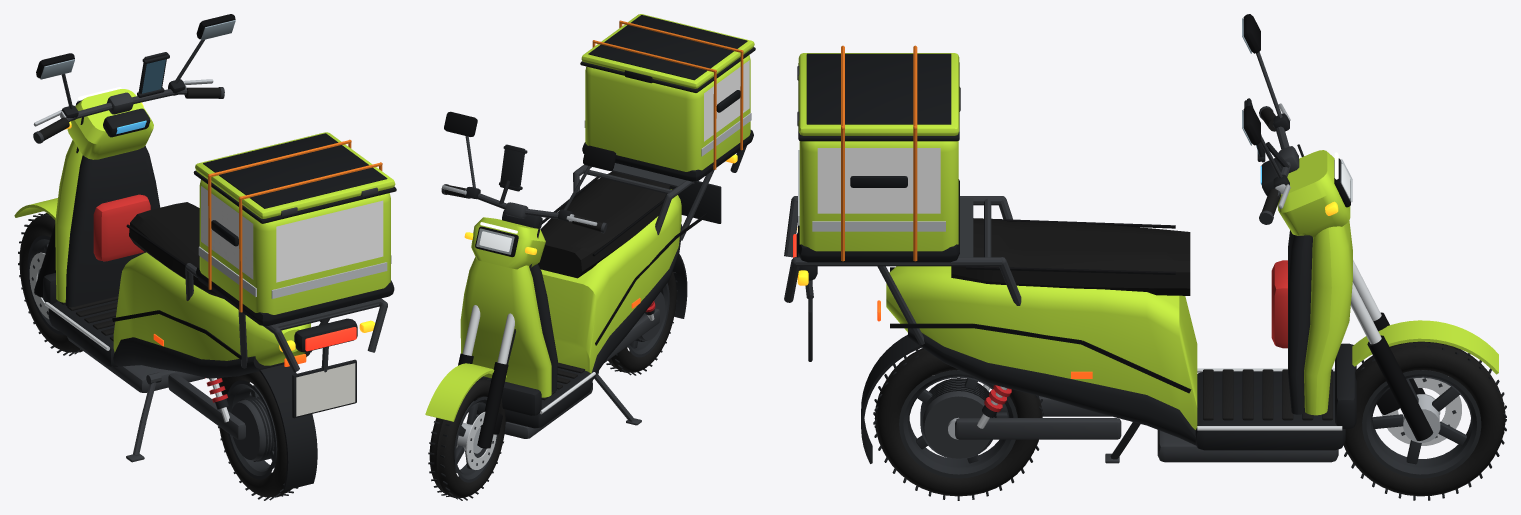
File: gz_ebike.glb
3 renders of one model, left to right at view 1: azimuth 30°, elevation 25°; view 2: azimuth 150°, elevation 25°; view 3: azimuth 270°, elevation 25°, orthographic. The views are drawn at different scales.
Visible parts, largest first — view 1: kit_ebike_body, kit_ebike_steer, kit_ebike_lid, ebike_logo, kit_ebike_wheel_r, kit_ebike_wheel_f, ebike_plate, kit_ebike_stand, ebike_screen; view 2: kit_ebike_body, kit_ebike_steer, kit_ebike_lid, kit_ebike_wheel_f, kit_ebike_wheel_r, ebike_logo, kit_ebike_stand; view 3: kit_ebike_body, kit_ebike_wheel_f, kit_ebike_steer, kit_ebike_wheel_r, kit_ebike_lid, ebike_logo.
Part boxes in pixels (x1,y1,x2,y2): kit_ebike_body: [43, 139, 396, 490]; kit_ebike_steer: [14, 14, 235, 297]; kit_ebike_lid: [195, 132, 395, 218]; ebike_logo: [201, 186, 383, 282]; kit_ebike_wheel_r: [218, 371, 298, 500]; kit_ebike_wheel_f: [18, 213, 82, 355]; ebike_plate: [296, 363, 355, 416]; kit_ebike_stand: [126, 372, 161, 462]; ebike_screen: [142, 59, 165, 93]; kit_ebike_body: [460, 20, 755, 438]; kit_ebike_steer: [425, 111, 616, 448]; kit_ebike_lid: [581, 14, 754, 88]; kit_ebike_wheel_f: [428, 377, 506, 500]; kit_ebike_wheel_r: [606, 271, 677, 375]; ebike_logo: [704, 60, 749, 141]; kit_ebike_stand: [594, 371, 641, 425]; kit_ebike_body: [784, 45, 1356, 463]; kit_ebike_wheel_f: [1343, 341, 1506, 500]; kit_ebike_steer: [1242, 14, 1498, 440]; kit_ebike_wheel_r: [873, 348, 1043, 500]; kit_ebike_lid: [797, 53, 960, 135]; ebike_logo: [817, 148, 940, 213].
Size of the model in its own units: 0.73 by 1.3 by 2.
